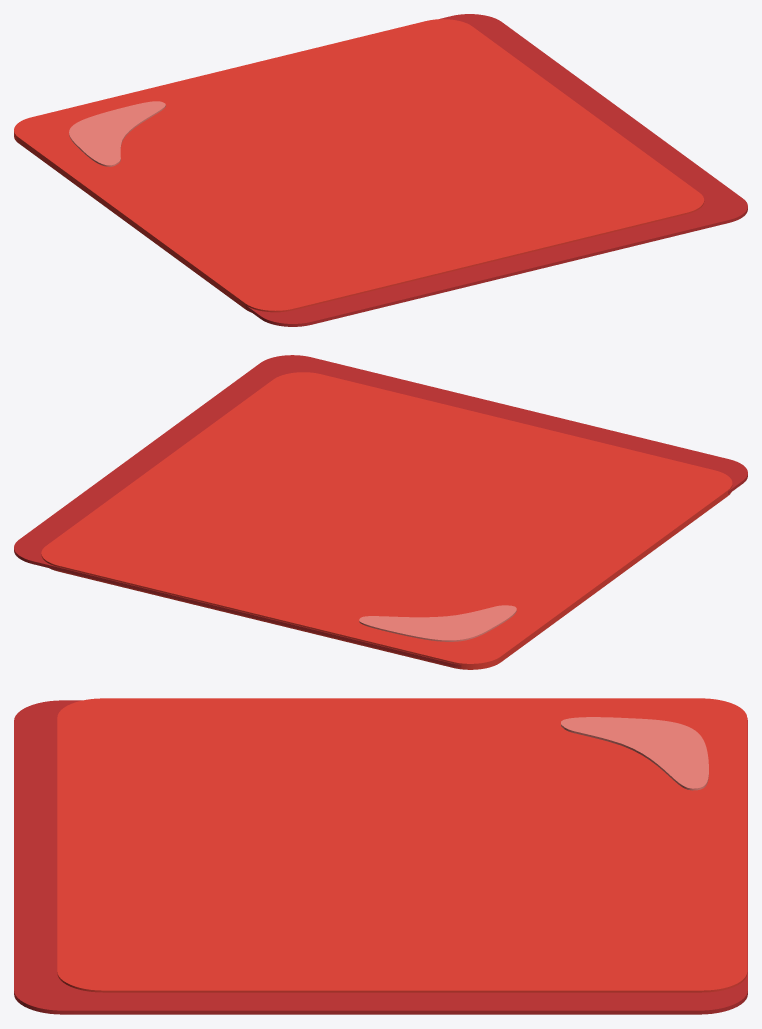
The model's file is emoji_u1f7e5.glb.
The picture shows the model from 3 angles, top to bottom: view 1: azimuth 30°, elevation 25°; view 2: azimuth 150°, elevation 25°; view 3: azimuth 270°, elevation 25°; orthographic projection. The views are drawn at different scales.
Parts seen in each view (by area): view 1: emoji_u1f7e5; view 2: emoji_u1f7e5; view 3: emoji_u1f7e5.
Part boxes in pixels (x1=…): emoji_u1f7e5: x1=14, y1=14, x2=747, y2=326; emoji_u1f7e5: x1=14, y1=355, x2=747, y2=669; emoji_u1f7e5: x1=14, y1=698, x2=747, y2=1014.
Size of the model in its own units: 0.0339 by 0.0006 by 0.0339.
